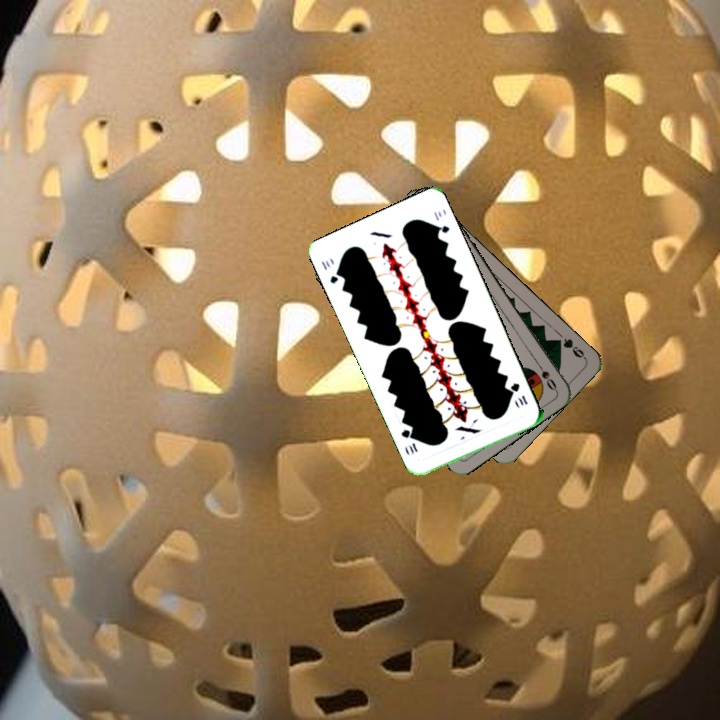G10: (317, 256, 344, 286), (506, 379, 530, 408)
G9: (551, 334, 588, 362)
SO: (531, 357, 559, 393)
